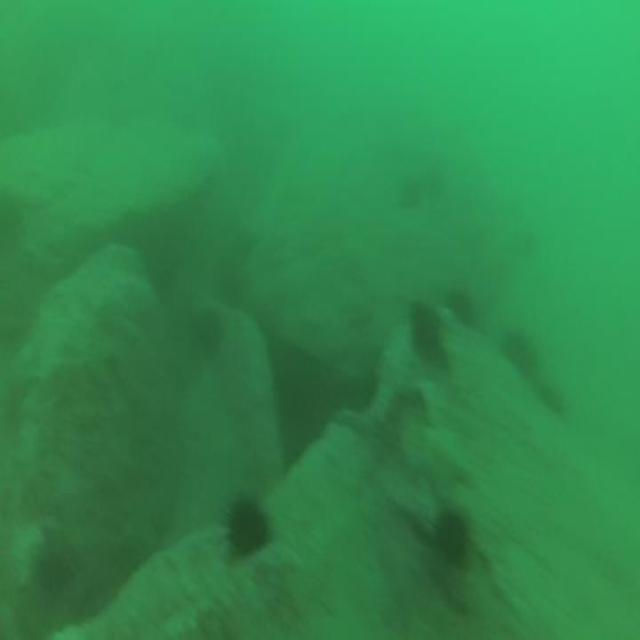echinus: (230, 501, 268, 559), (500, 324, 537, 378), (410, 300, 444, 354), (434, 509, 466, 564), (448, 288, 473, 327)
starfish: (412, 425, 472, 507)
